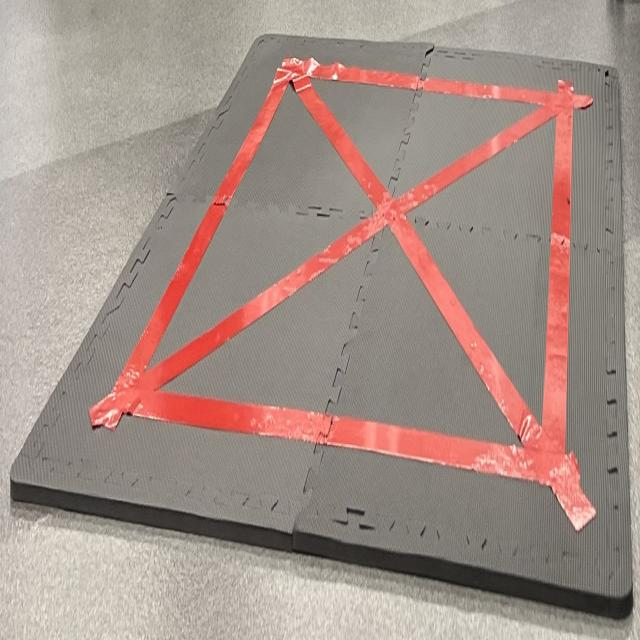landingPads: (11, 33, 632, 617)
